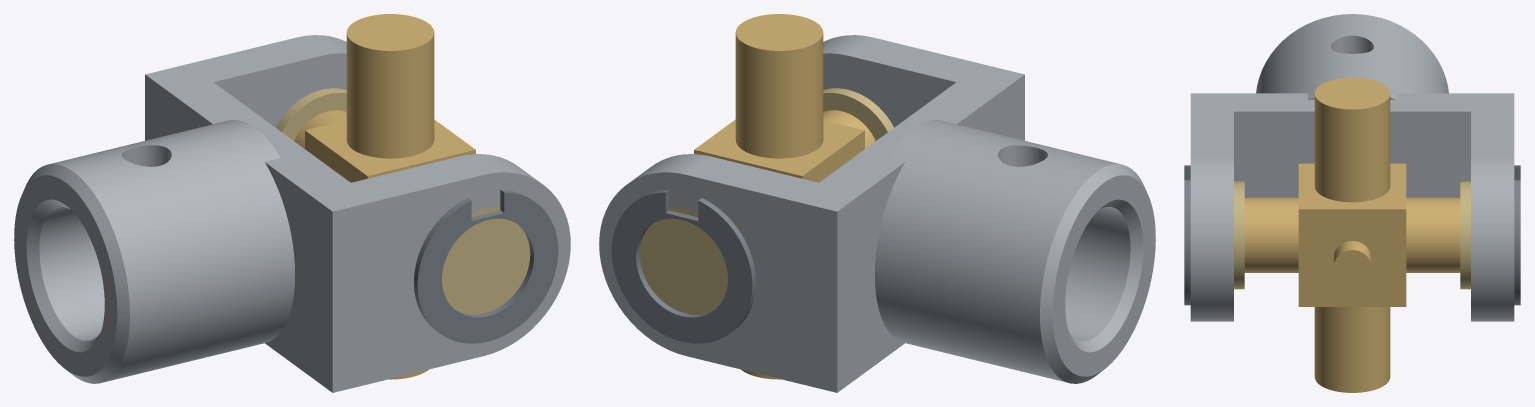
The model's file is step_16.glb.
The picture shows the model from 3 angles, left to right: view 1: azimuth 30°, elevation 25°; view 2: azimuth 150°, elevation 25°; view 3: azimuth 270°, elevation 25°; orthographic projection. The views are drawn at different scales.
Parts seen in each view (by area): view 1: part__input yoke, part__cross (spider), part__circlip 2, part__cup 2, part__cup 1; view 2: part__input yoke, part__cross (spider), part__circlip 1, part__cup 1, part__cup 2; view 3: part__input yoke, part__cross (spider), part__cup 1, part__cup 2, part__circlip 1, part__circlip 2.
Boxes of the visible parts, bbox=[...] form: part__input yoke: bbox=[14, 35, 570, 392]; part__cross (spider): bbox=[294, 14, 475, 379]; part__circlip 2: bbox=[414, 189, 558, 343]; part__cup 2: bbox=[442, 207, 530, 314]; part__cup 1: bbox=[276, 88, 346, 140]; part__input yoke: bbox=[599, 35, 1155, 392]; part__cross (spider): bbox=[694, 14, 875, 379]; part__circlip 1: bbox=[611, 189, 755, 343]; part__cup 1: bbox=[639, 207, 727, 314]; part__cup 2: bbox=[823, 88, 893, 140]; part__input yoke: bbox=[1190, 14, 1514, 321]; part__cross (spider): bbox=[1244, 77, 1460, 392]; part__cup 1: bbox=[1460, 181, 1470, 289]; part__cup 2: bbox=[1234, 181, 1244, 289]; part__circlip 1: bbox=[1514, 165, 1520, 305]; part__circlip 2: bbox=[1184, 165, 1190, 305].
Size of the model in its own units: 76 by 58 by 62.4.
